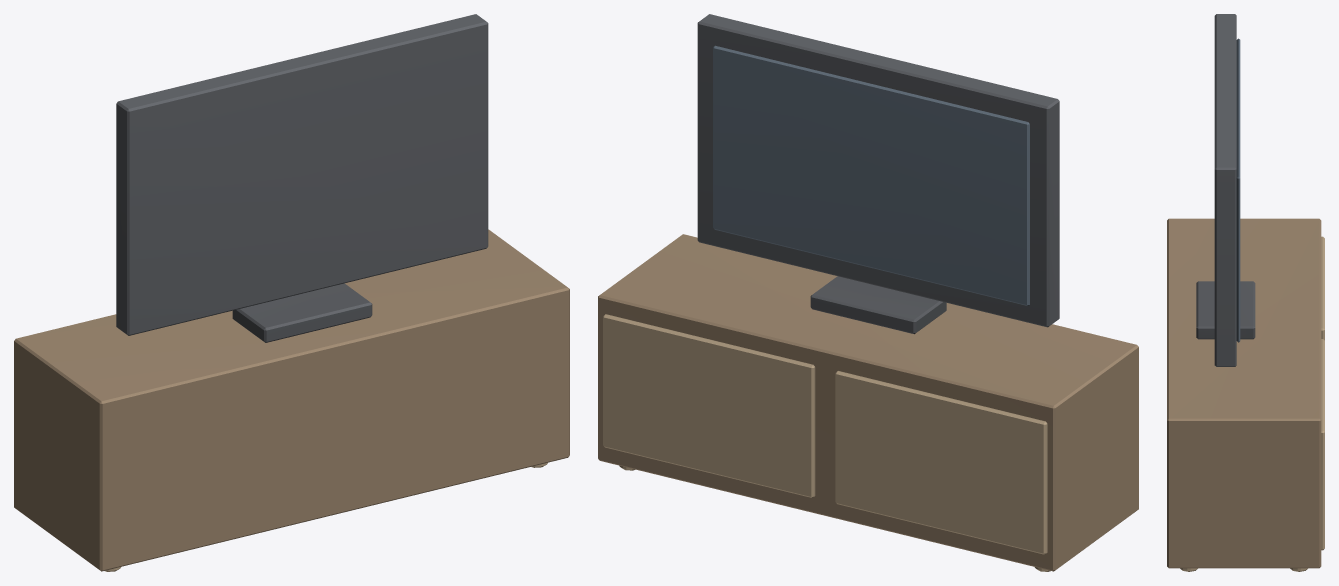
Rendered from furn_tv_stand__walnut.glb.
3 views of the same model, side by side, from view 1: azimuth 30°, elevation 25°; view 2: azimuth 150°, elevation 25°; view 3: azimuth 270°, elevation 25° (orthographic). The views are drawn at different scales.
Bounding box in the file's own units: 1.3 × 1.16 × 0.43.
